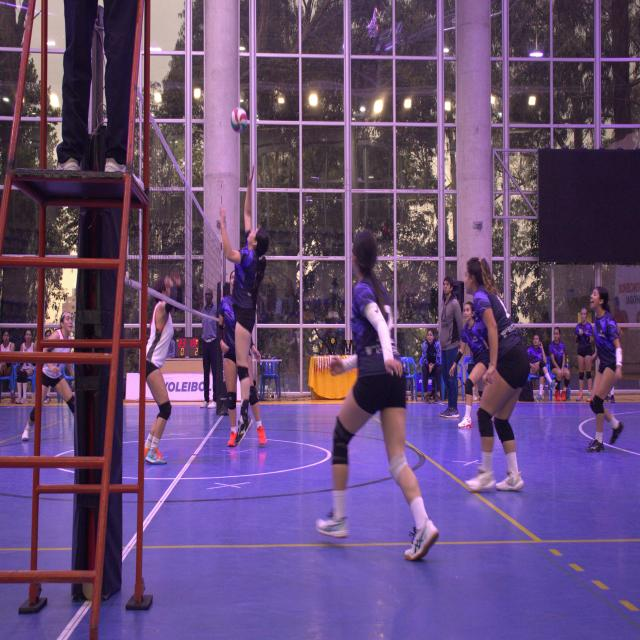volleyball: (230, 106, 248, 133)
